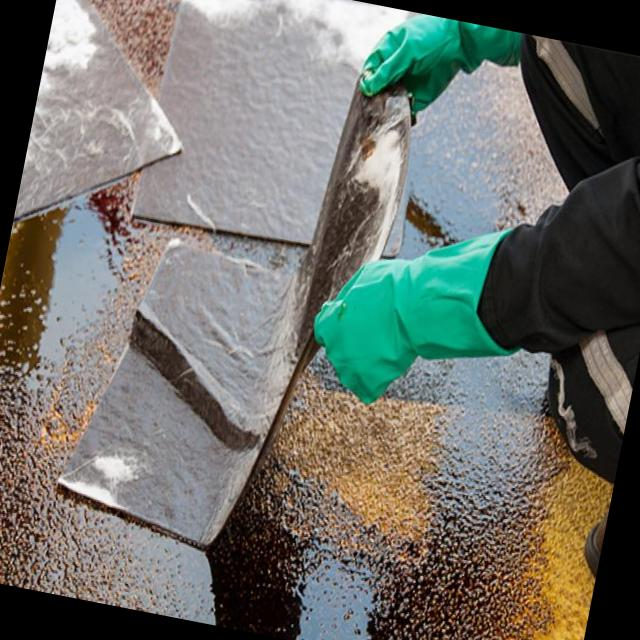Gloves: (296, 182, 516, 428), (334, 10, 522, 153)
